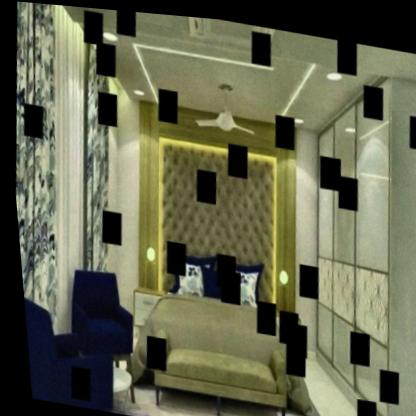Bed: (114, 234, 322, 416)
Closet: (279, 54, 416, 416)
Wall Panel: (115, 85, 310, 327)
